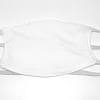cloth_mask: (1, 16, 100, 82)
